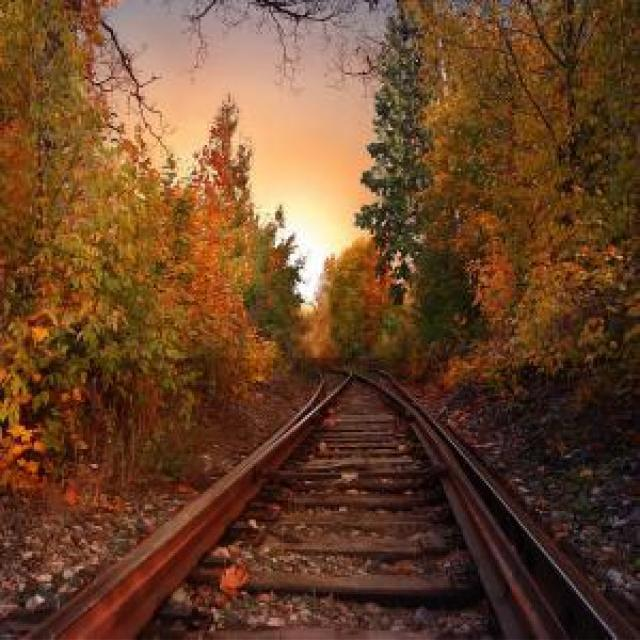rail: (1, 360, 640, 640)
